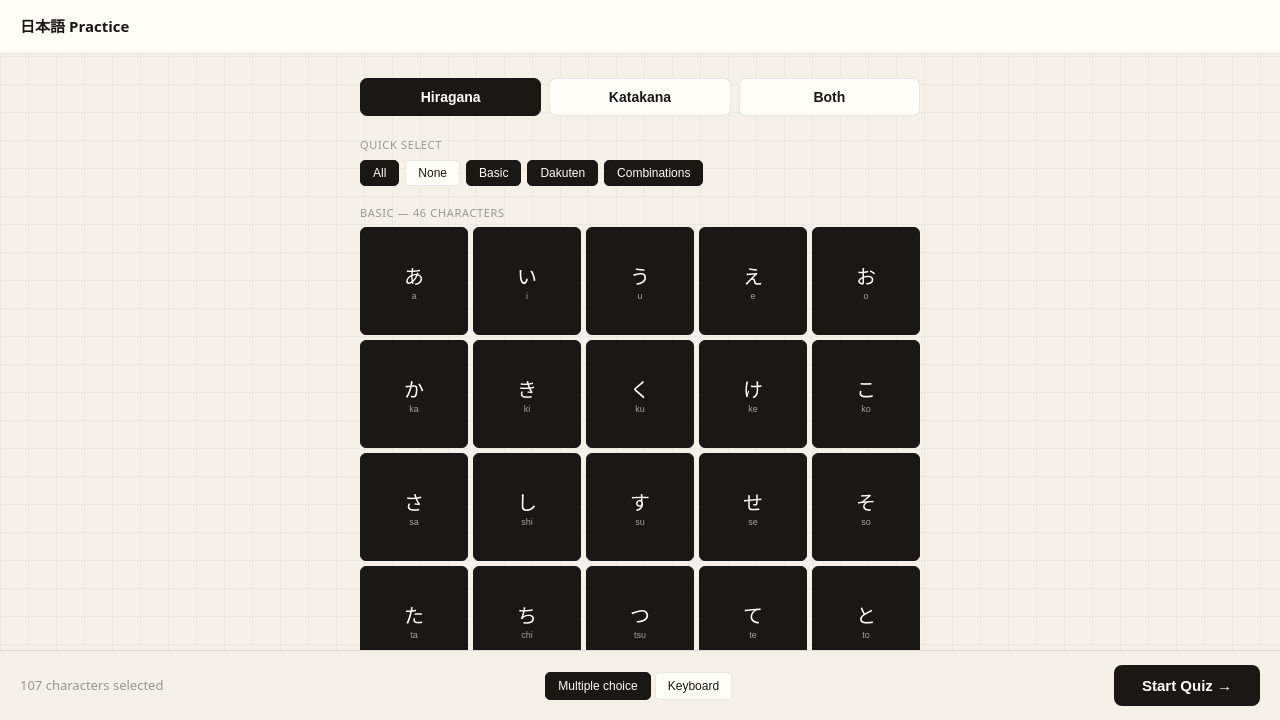
KanaQuiz › shows results screen when all questions answered
Click the button "None" at x=433, y=173, box [405,160,460,186]
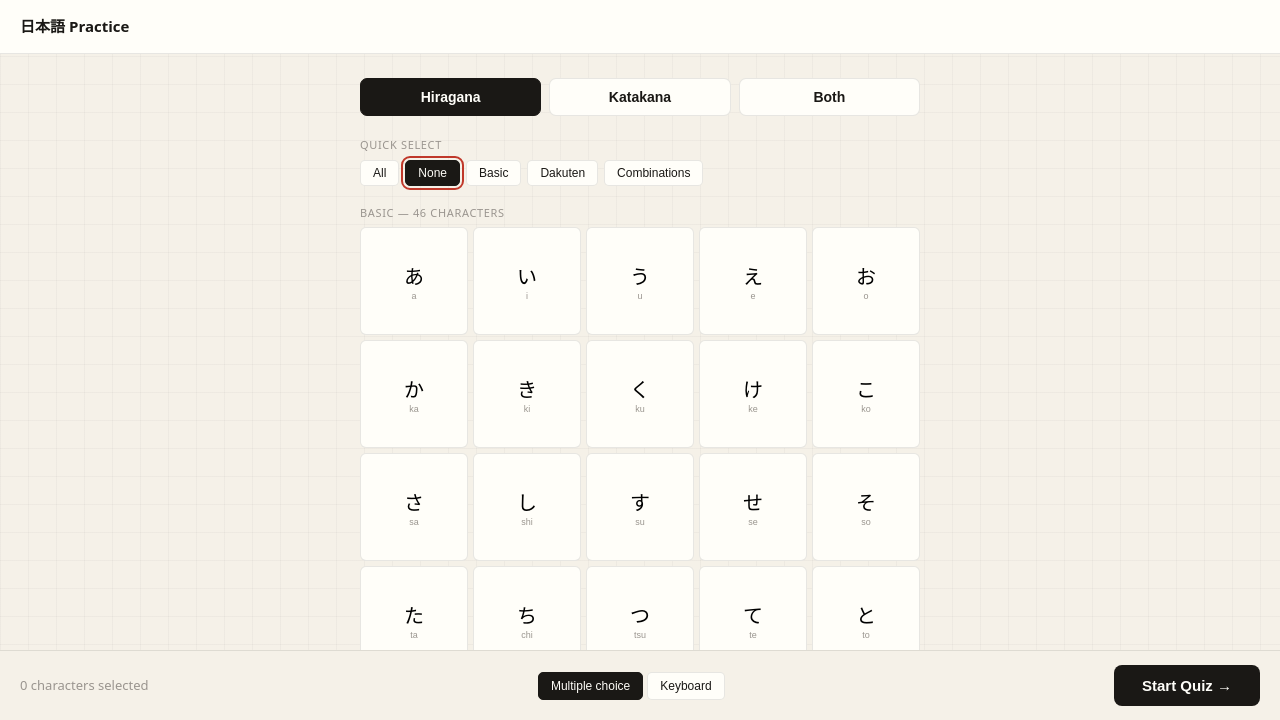
Click the button with class "kana-cell" showing "あ a" at x=414, y=281, box [360,227,468,335]
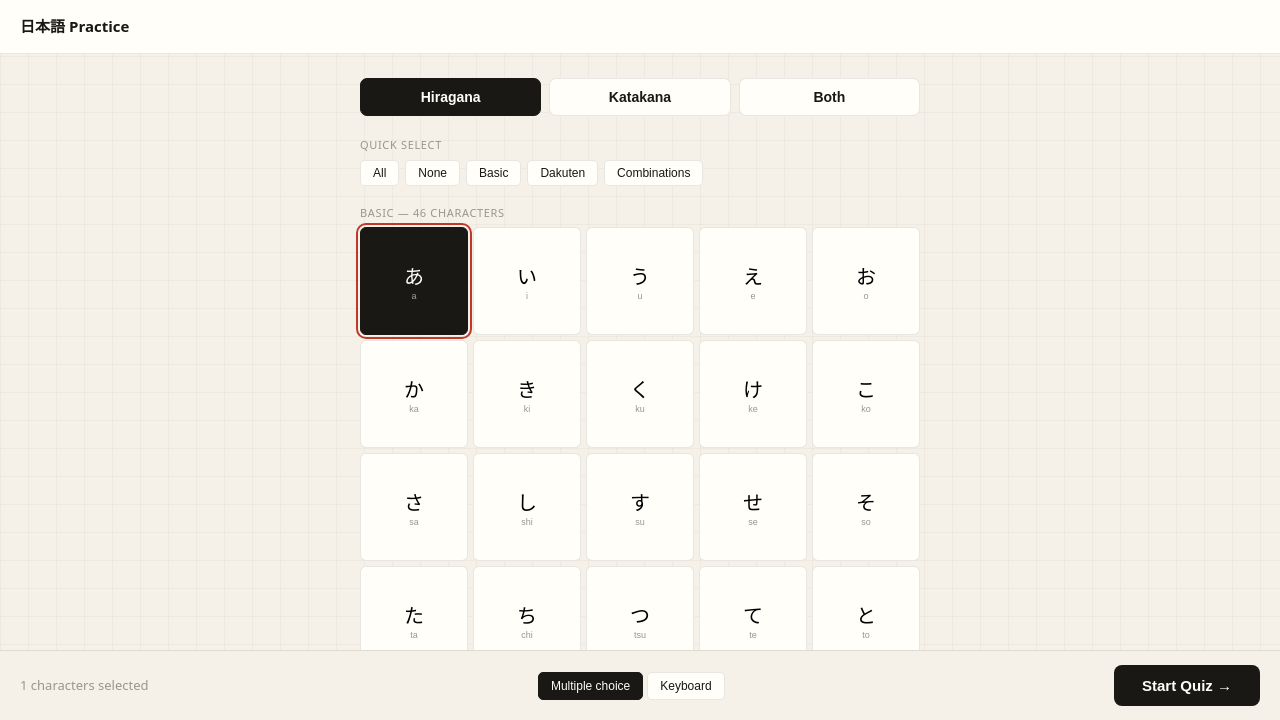
Click the button "Start Quiz →" at x=1187, y=686, box [1114,665,1260,706]
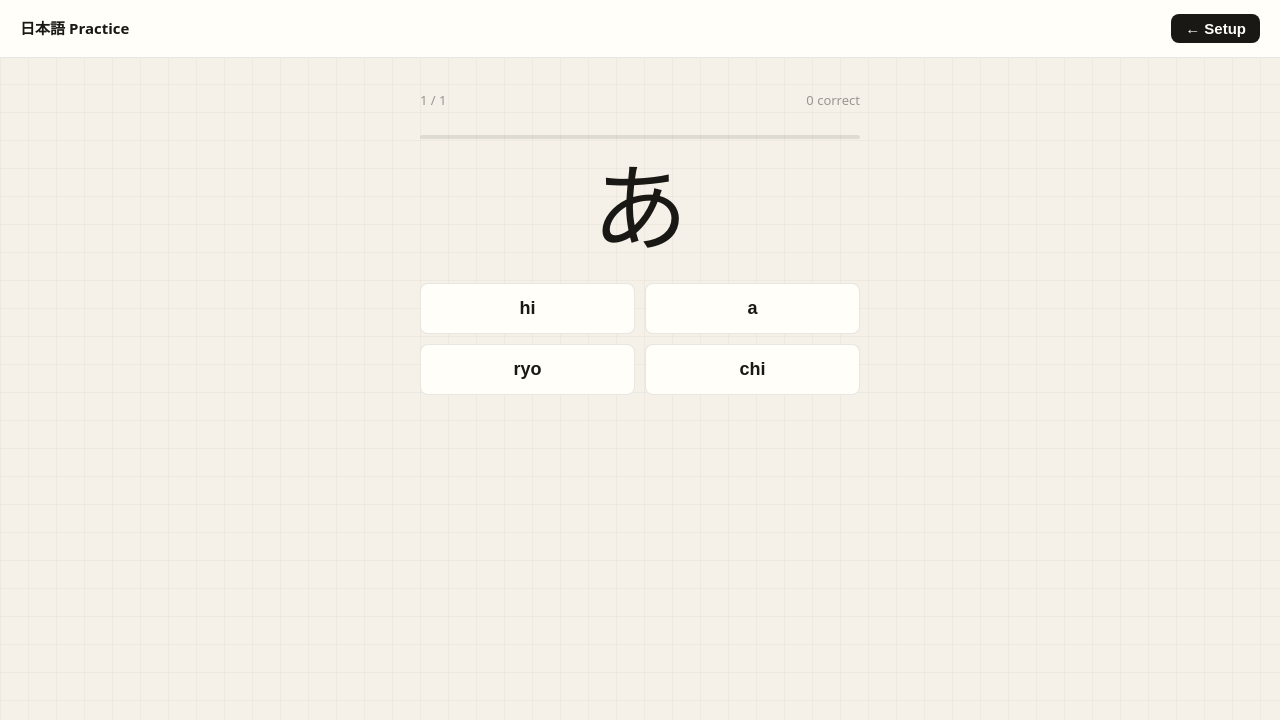
Click the button "hi" at x=528, y=308, box [420,283,635,334]
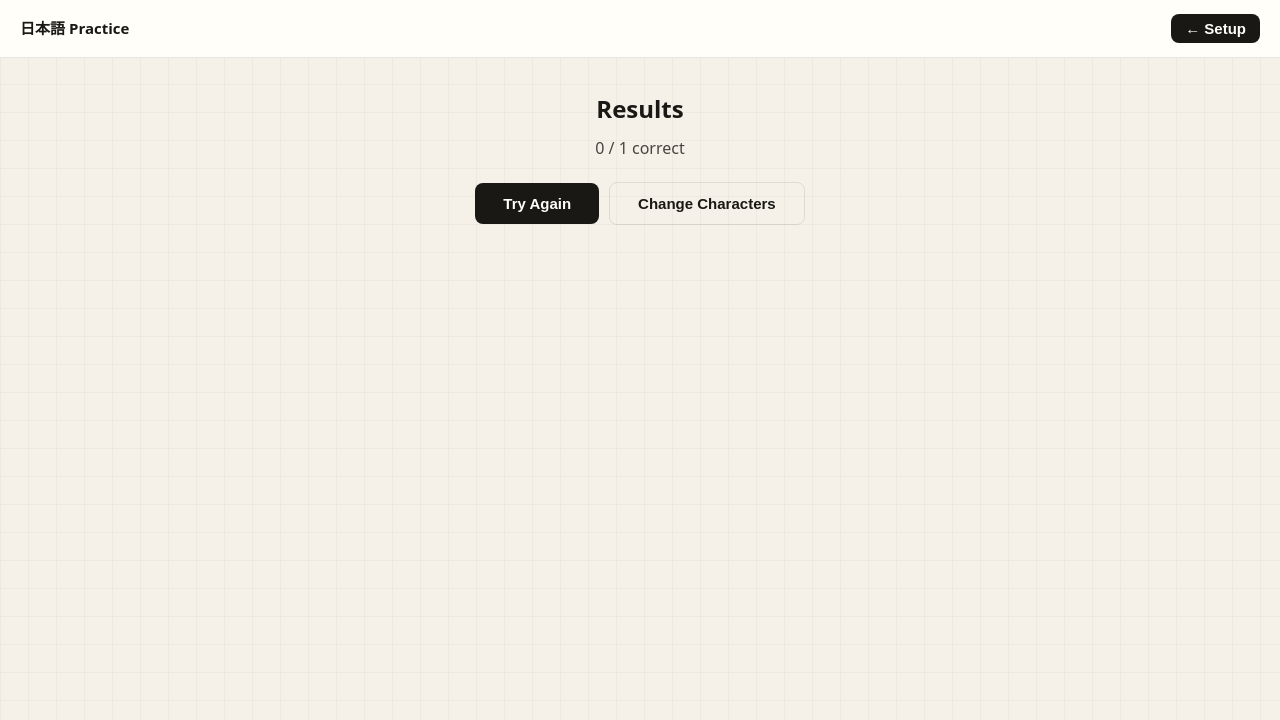
Expected: the heading "Results" is shown, [596,92,684,125]
